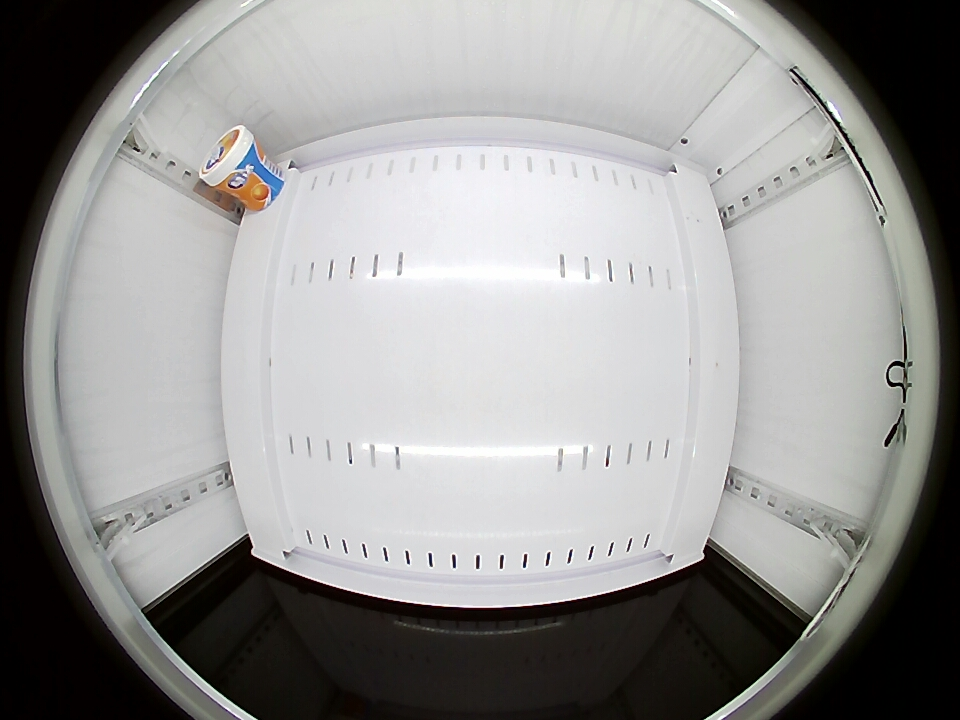yida: (198, 126, 260, 191)
